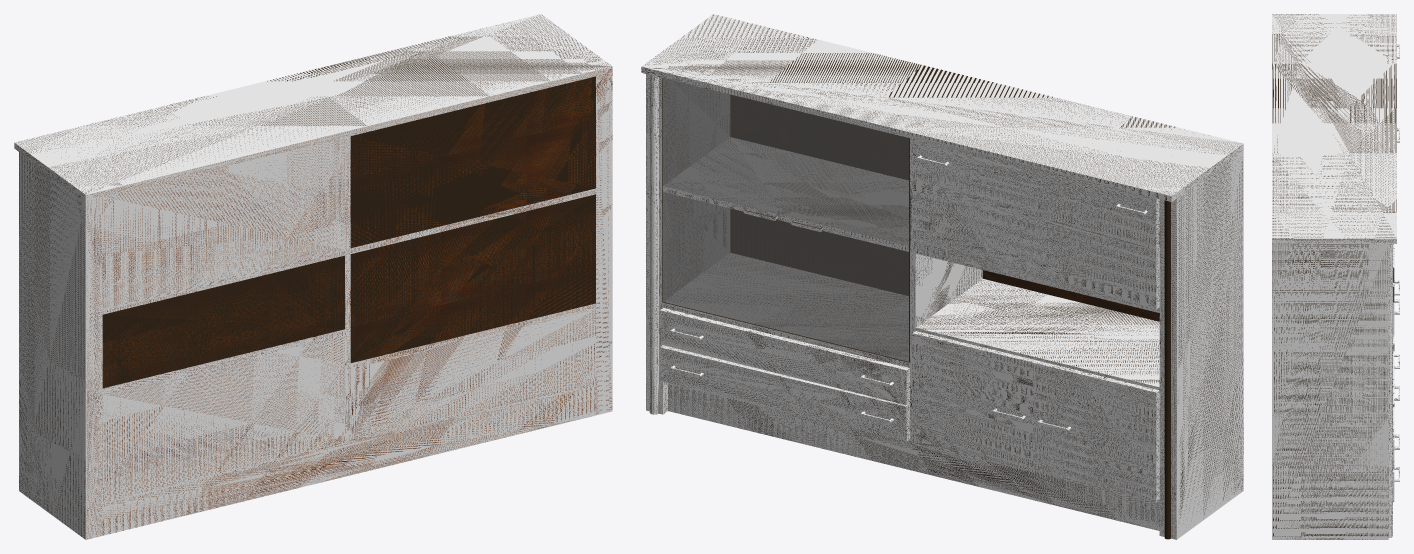
3 views of the same model, side by side, from view 1: azimuth 30°, elevation 25°; view 2: azimuth 150°, elevation 25°; view 3: azimuth 270°, elevation 25° (orthographic). The views are drawn at different scales.
Parts seen in each view (by area): view 1: mesh1_mesh1-geometry; view 2: mesh1_mesh1-geometry; view 3: mesh1_mesh1-geometry.
Boxes of the visible parts, x1=… form: mesh1_mesh1-geometry: x1=14, y1=14, x2=612, y2=539; mesh1_mesh1-geometry: x1=641, y1=14, x2=1243, y2=539; mesh1_mesh1-geometry: x1=1272, y1=14, x2=1399, y2=539.
Bounding box in the file's own units: 0.8306 × 0.5197 × 0.1999.
